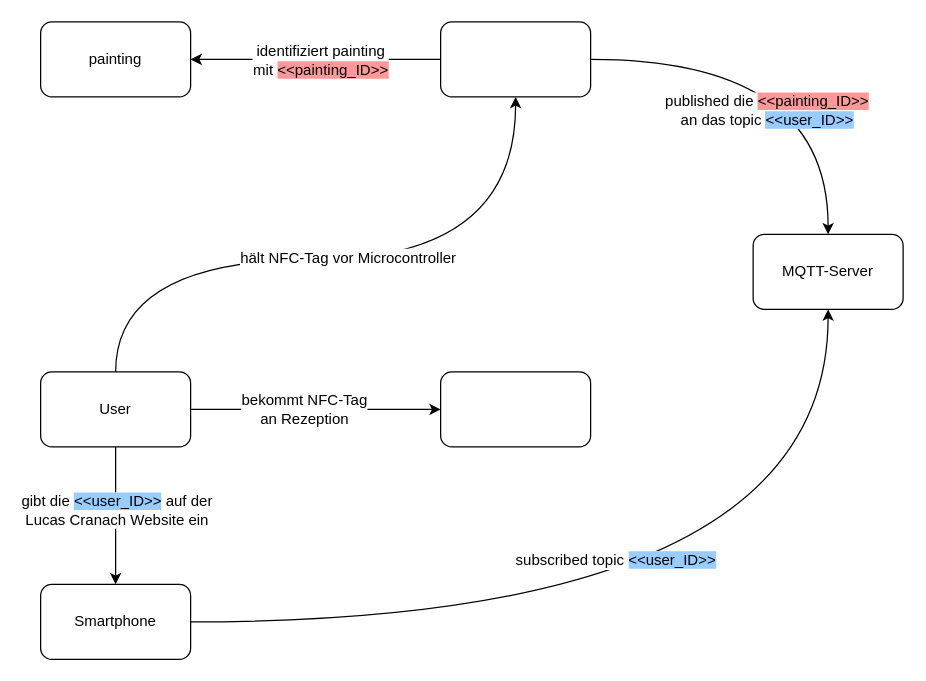
The diagram is 926 pixels wide and 681 high, and some of its shapes have lost their labels. Each missing label, with the centre of its shape:
Microcontroller: pixel 515 59
NFC-Tag hat <<user_ID>>: pixel 515 409
